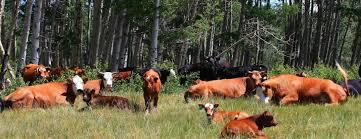cow: (253, 74, 348, 106), (1, 75, 88, 109), (185, 70, 264, 103), (221, 110, 279, 139), (77, 89, 140, 112), (198, 103, 250, 126), (83, 70, 118, 96), (142, 69, 161, 115), (22, 64, 51, 86), (201, 54, 221, 79), (179, 62, 200, 85)
